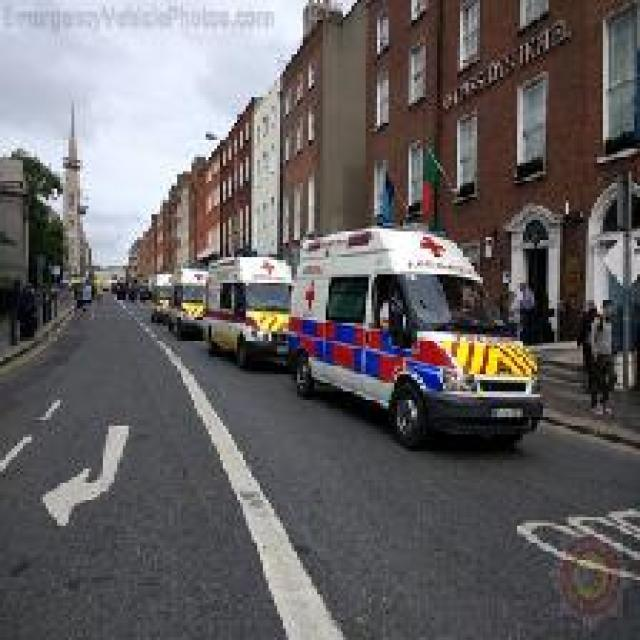emergency: (282, 224, 546, 452), (204, 254, 306, 370), (170, 265, 224, 341)
